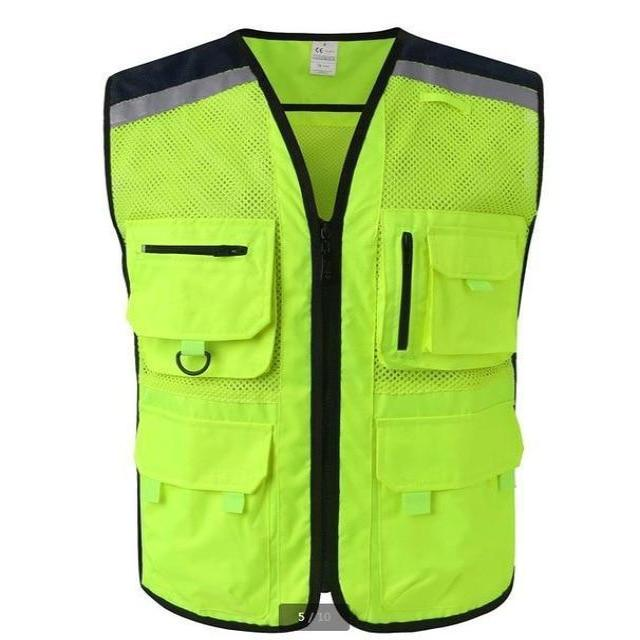Vest: (97, 27, 544, 632)
